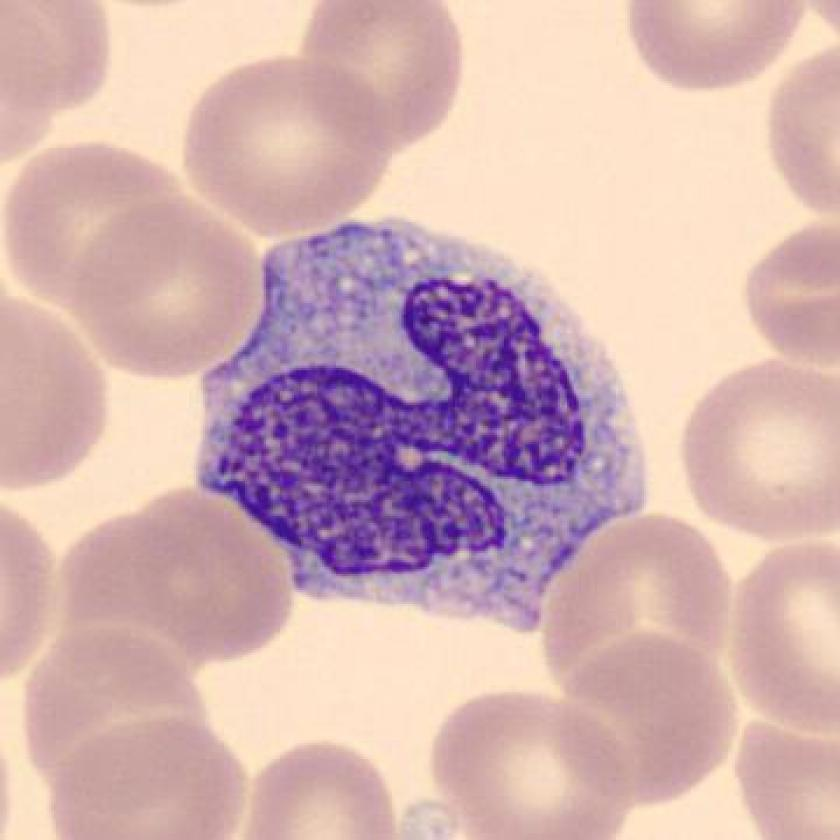monocyte: (176, 207, 668, 647)
